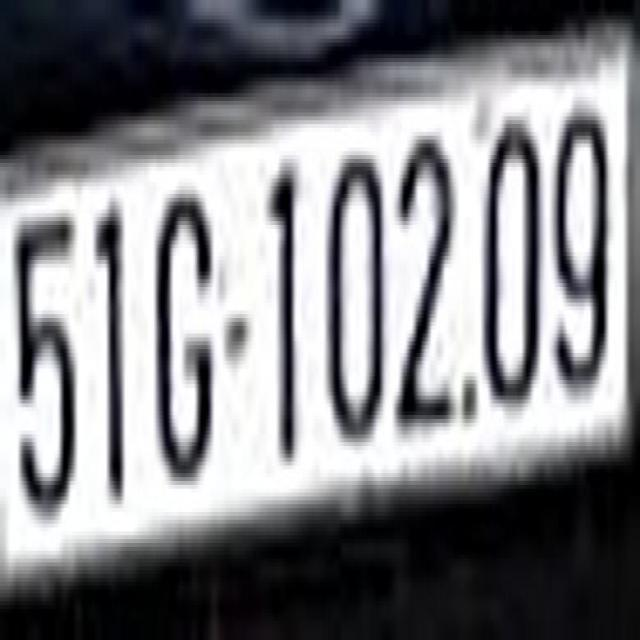0: (323, 140, 384, 446), (482, 108, 542, 416)
1: (93, 182, 129, 520), (264, 143, 298, 481)
2: (396, 128, 456, 446)
5: (13, 213, 79, 524)
9: (552, 89, 612, 396)
G: (152, 170, 214, 492)
